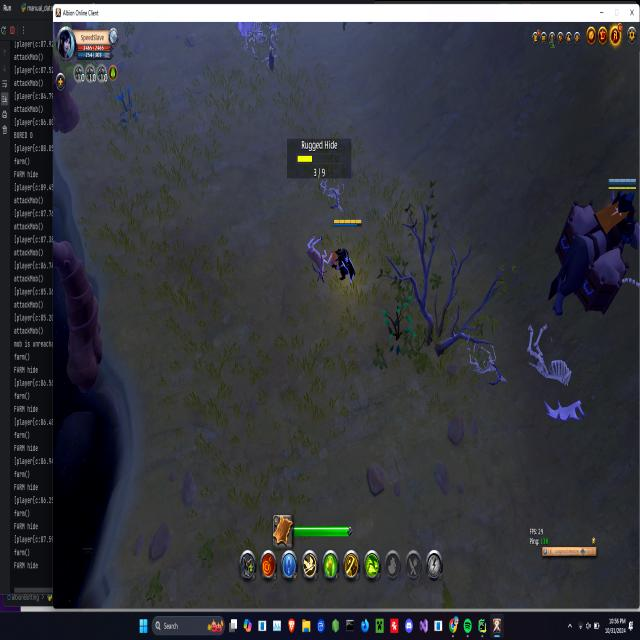mob: (305, 232, 330, 285)
red: (548, 170, 638, 326), (332, 214, 362, 287)
